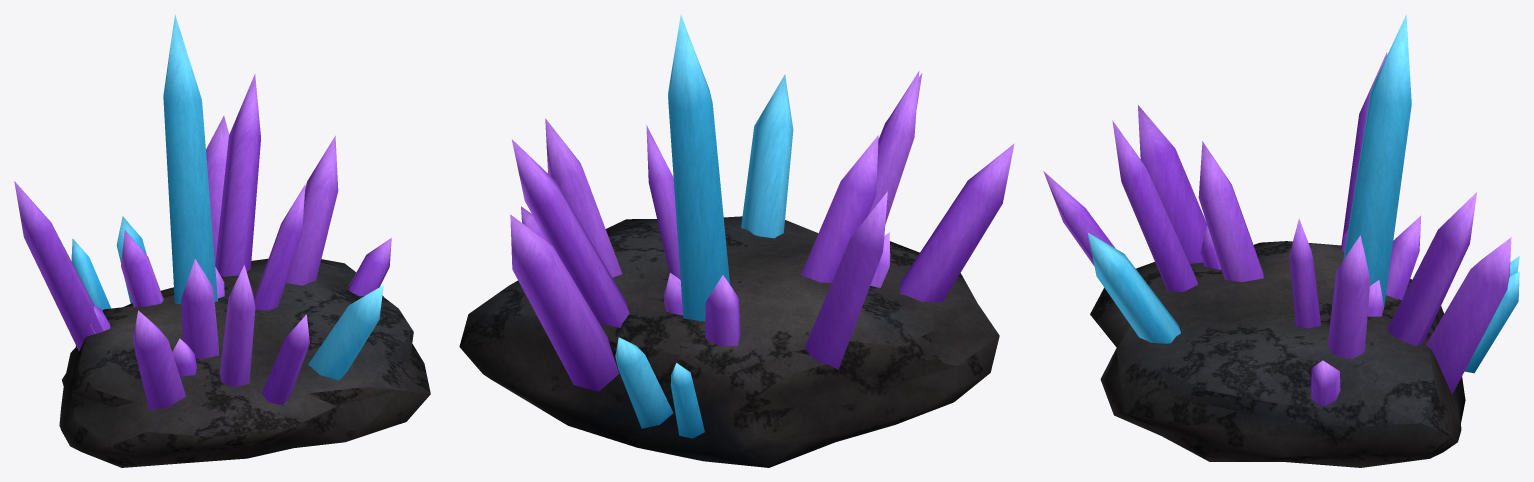
The model's file is crystal_cluster_violet.glb.
3 renders of one model, left to right at view 1: azimuth 30°, elevation 25°; view 2: azimuth 150°, elevation 25°; view 3: azimuth 270°, elevation 25°, orthographic. The views are drawn at different scales.
Visible parts, largest first — view 1: crystal_cluster_violet; view 2: crystal_cluster_violet; view 3: crystal_cluster_violet.
Part boxes in pixels (x1=…): crystal_cluster_violet: x1=14, y1=14, x2=430, y2=467; crystal_cluster_violet: x1=459, y1=14, x2=1014, y2=467; crystal_cluster_violet: x1=1043, y1=14, x2=1519, y2=467.
Bounding box in the file's own units: 2.66 × 2.61 × 2.85.
3 materials, 3 textured.
